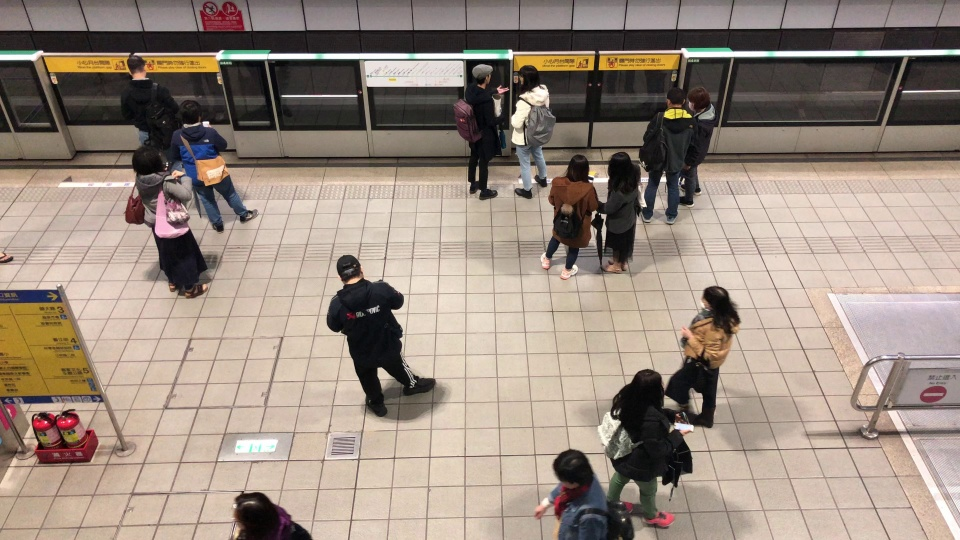person_head: (552, 449, 596, 493), (231, 491, 280, 530), (629, 370, 667, 411), (701, 285, 732, 318), (608, 150, 633, 190), (335, 253, 364, 286), (132, 147, 164, 174), (517, 63, 544, 92), (566, 154, 590, 183), (179, 99, 202, 128), (473, 63, 493, 88), (689, 86, 709, 110), (126, 54, 145, 79), (666, 87, 687, 108)
person_vbox: (325, 254, 438, 419), (595, 367, 693, 532), (172, 98, 261, 235), (130, 145, 209, 297), (663, 284, 741, 426), (640, 85, 700, 226), (120, 54, 186, 176), (539, 154, 598, 279), (532, 451, 606, 539), (466, 64, 510, 199), (509, 65, 550, 199), (596, 149, 639, 276), (678, 84, 714, 208), (230, 489, 311, 540)
